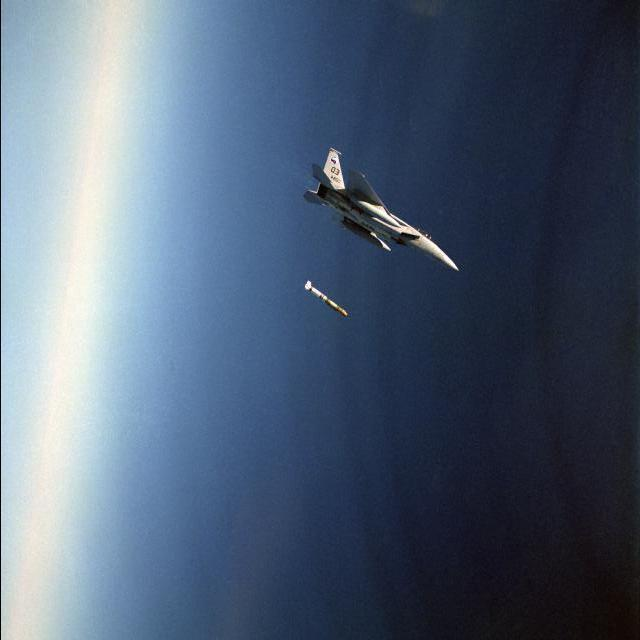missile: (304, 282, 350, 321)
